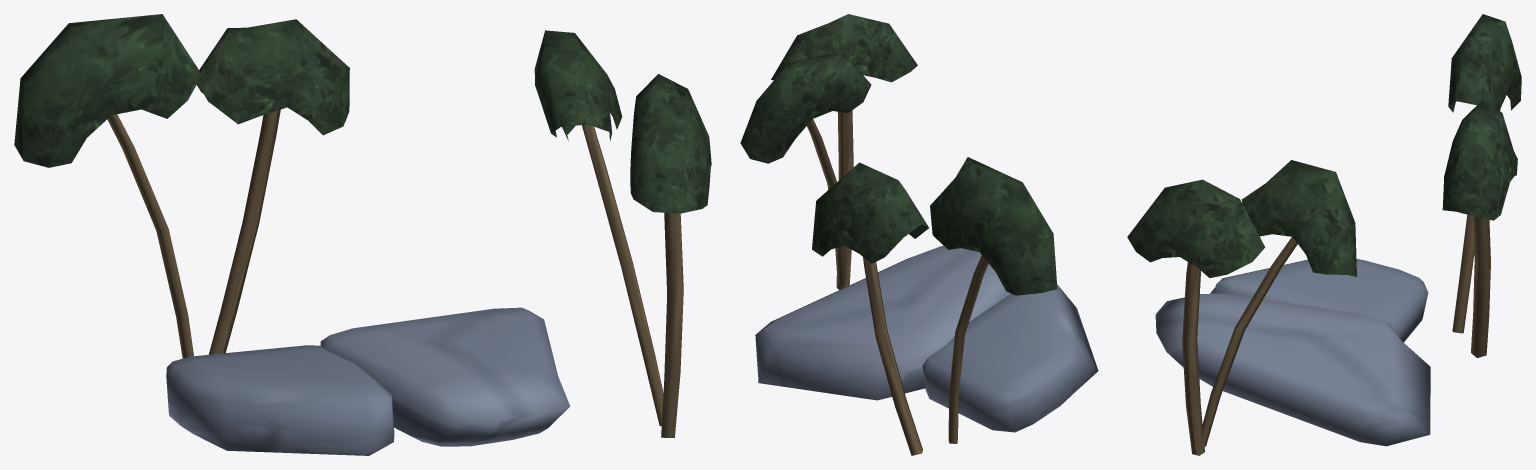
Rendered from PedraMataAtlantica1_implant.fbx.
3 renders of one model, left to right at view 1: azimuth 30°, elevation 25°; view 2: azimuth 150°, elevation 25°; view 3: azimuth 270°, elevation 25°, orthographic. The views are drawn at different scales.
Parts seen in each view (by area): view 1: Cube.001; view 2: Cube.001; view 3: Cube.001.
Boxes of the visible parts, x1,y1,x2,y2 form: Cube.001: (14,14,711,455); Cube.001: (740,14,1098,455); Cube.001: (1127,14,1521,455).
Size of the model in its own units: 241 by 171 by 207.
